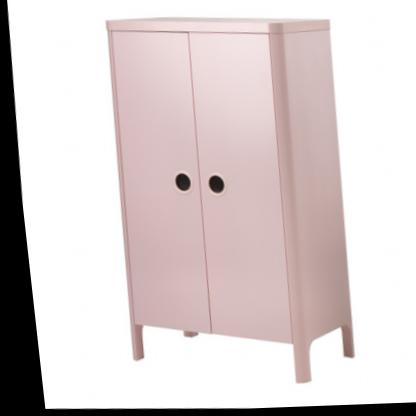Cabinet: (88, 4, 365, 394)
